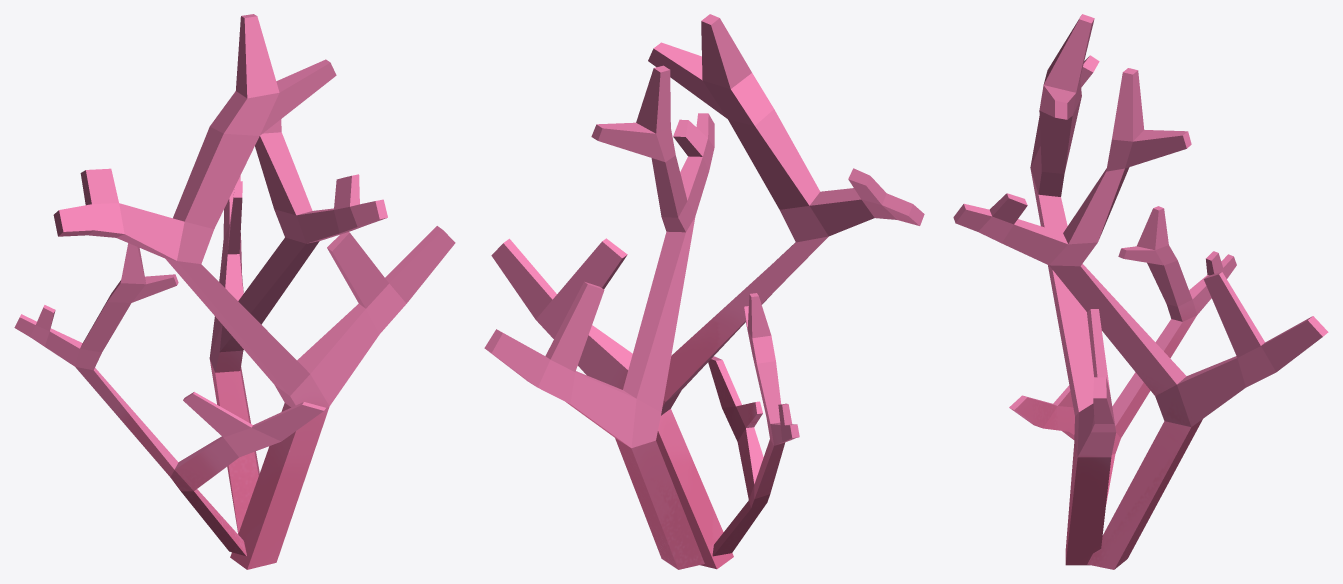
The model's file is coral02.glb.
3 views of the same model, side by side, from view 1: azimuth 30°, elevation 25°; view 2: azimuth 150°, elevation 25°; view 3: azimuth 270°, elevation 25° (orthographic).
Parts seen in each view (by area): view 1: Coral02; view 2: Coral02; view 3: Coral02.
Part boxes in pixels (left/top/right/bottom): Coral02: left=14, top=14, right=455, bottom=569; Coral02: left=484, top=14, right=924, bottom=569; Coral02: left=953, top=14, right=1328, bottom=569.
Bounding box in the file's own units: 5.4 × 6.85 × 4.31.
Materials: 1 (1 with a texture image).
